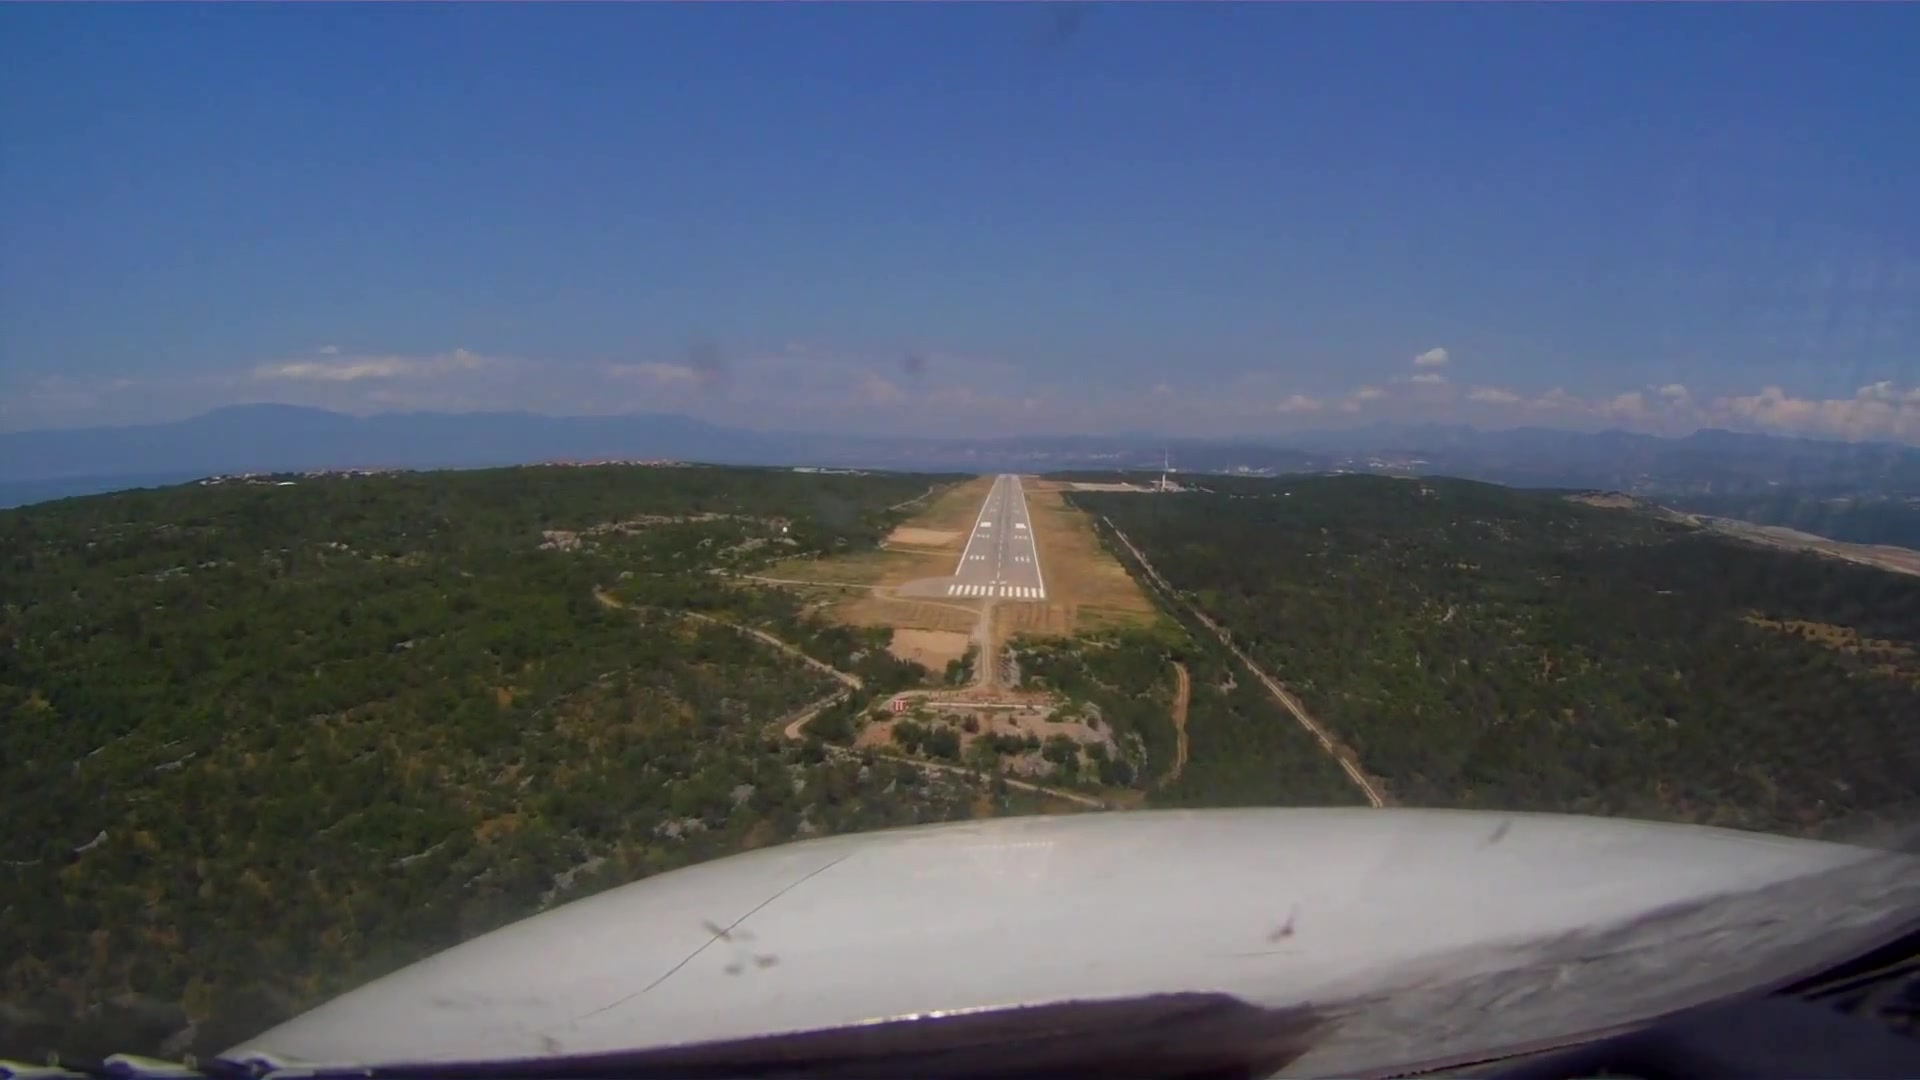entrance: (948, 582, 1043, 597)
runway: (945, 473, 1047, 605)
